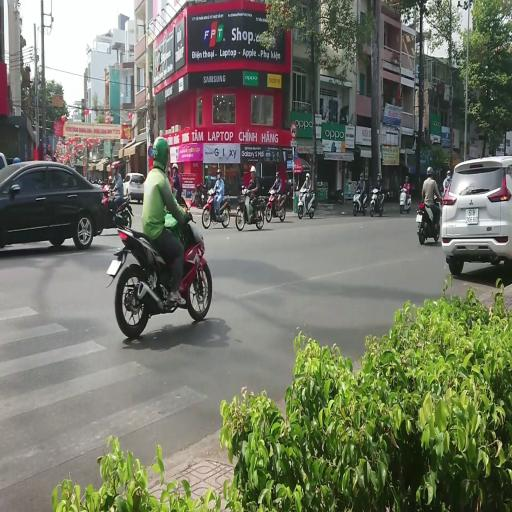bikes: (106, 206, 212, 338), (93, 178, 133, 234), (416, 195, 442, 244), (235, 188, 265, 230), (201, 189, 231, 228), (265, 189, 286, 222), (297, 188, 315, 219), (370, 186, 384, 217), (190, 183, 207, 208), (353, 188, 367, 216), (399, 185, 411, 213), (330, 188, 344, 204)
helmet: (152, 137, 169, 170), (110, 162, 118, 178), (102, 185, 109, 193), (208, 188, 215, 195), (426, 166, 432, 174), (444, 178, 449, 187), (250, 166, 256, 173), (13, 157, 20, 163), (172, 164, 178, 170), (113, 162, 118, 169), (419, 202, 424, 209), (165, 169, 170, 176), (216, 168, 221, 174), (372, 188, 378, 193), (405, 176, 409, 182), (360, 173, 364, 179), (378, 174, 382, 180), (288, 179, 292, 185), (108, 175, 112, 180), (402, 185, 406, 190), (306, 173, 309, 179), (447, 170, 450, 176), (276, 171, 279, 177), (241, 181, 244, 187), (400, 185, 403, 190), (378, 173, 380, 177)
